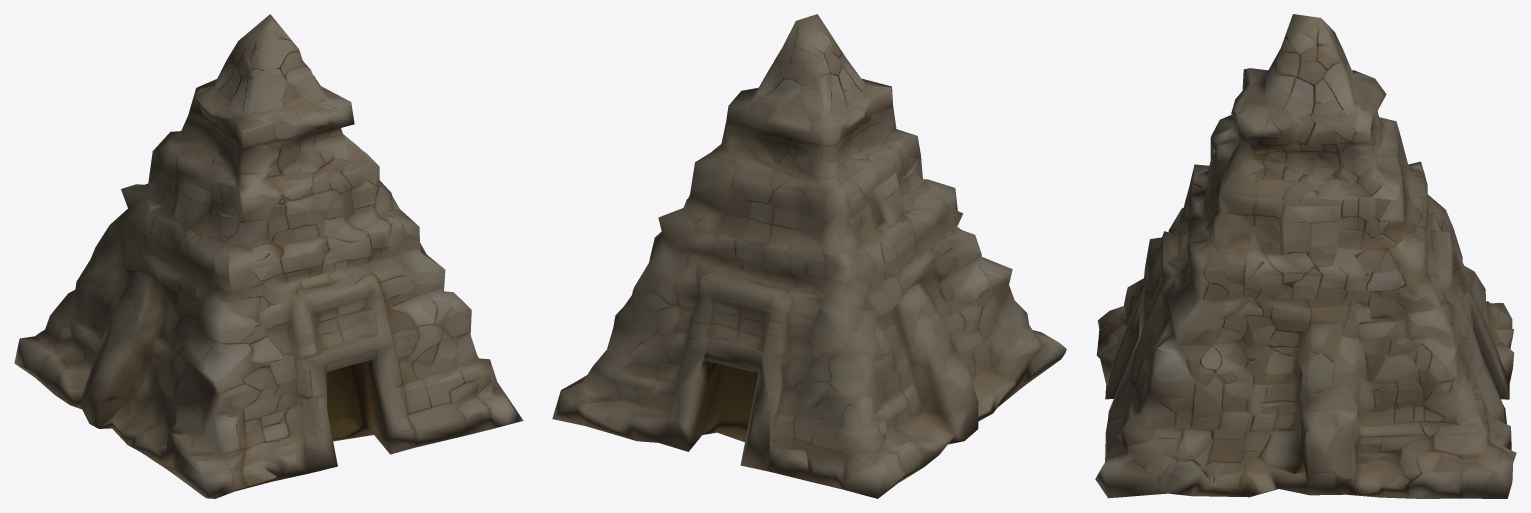
The picture shows the model from 3 angles, left to right: view 1: azimuth 30°, elevation 25°; view 2: azimuth 150°, elevation 25°; view 3: azimuth 270°, elevation 25°; orthographic projection. The views are drawn at different scales.
Visible parts, largest first — view 1: tripo_node_95aa67b4-768c-454f-ae13-2a70900e7559; view 2: tripo_node_95aa67b4-768c-454f-ae13-2a70900e7559; view 3: tripo_node_95aa67b4-768c-454f-ae13-2a70900e7559.
Part boxes in pixels (x1,y1,x2,y2): tripo_node_95aa67b4-768c-454f-ae13-2a70900e7559: [14, 14, 523, 498]; tripo_node_95aa67b4-768c-454f-ae13-2a70900e7559: [552, 14, 1066, 498]; tripo_node_95aa67b4-768c-454f-ae13-2a70900e7559: [1095, 14, 1516, 498].
Bounding box in the file's own units: 27.07 × 28 × 26.7.
Materials: 1 (1 with a texture image).
